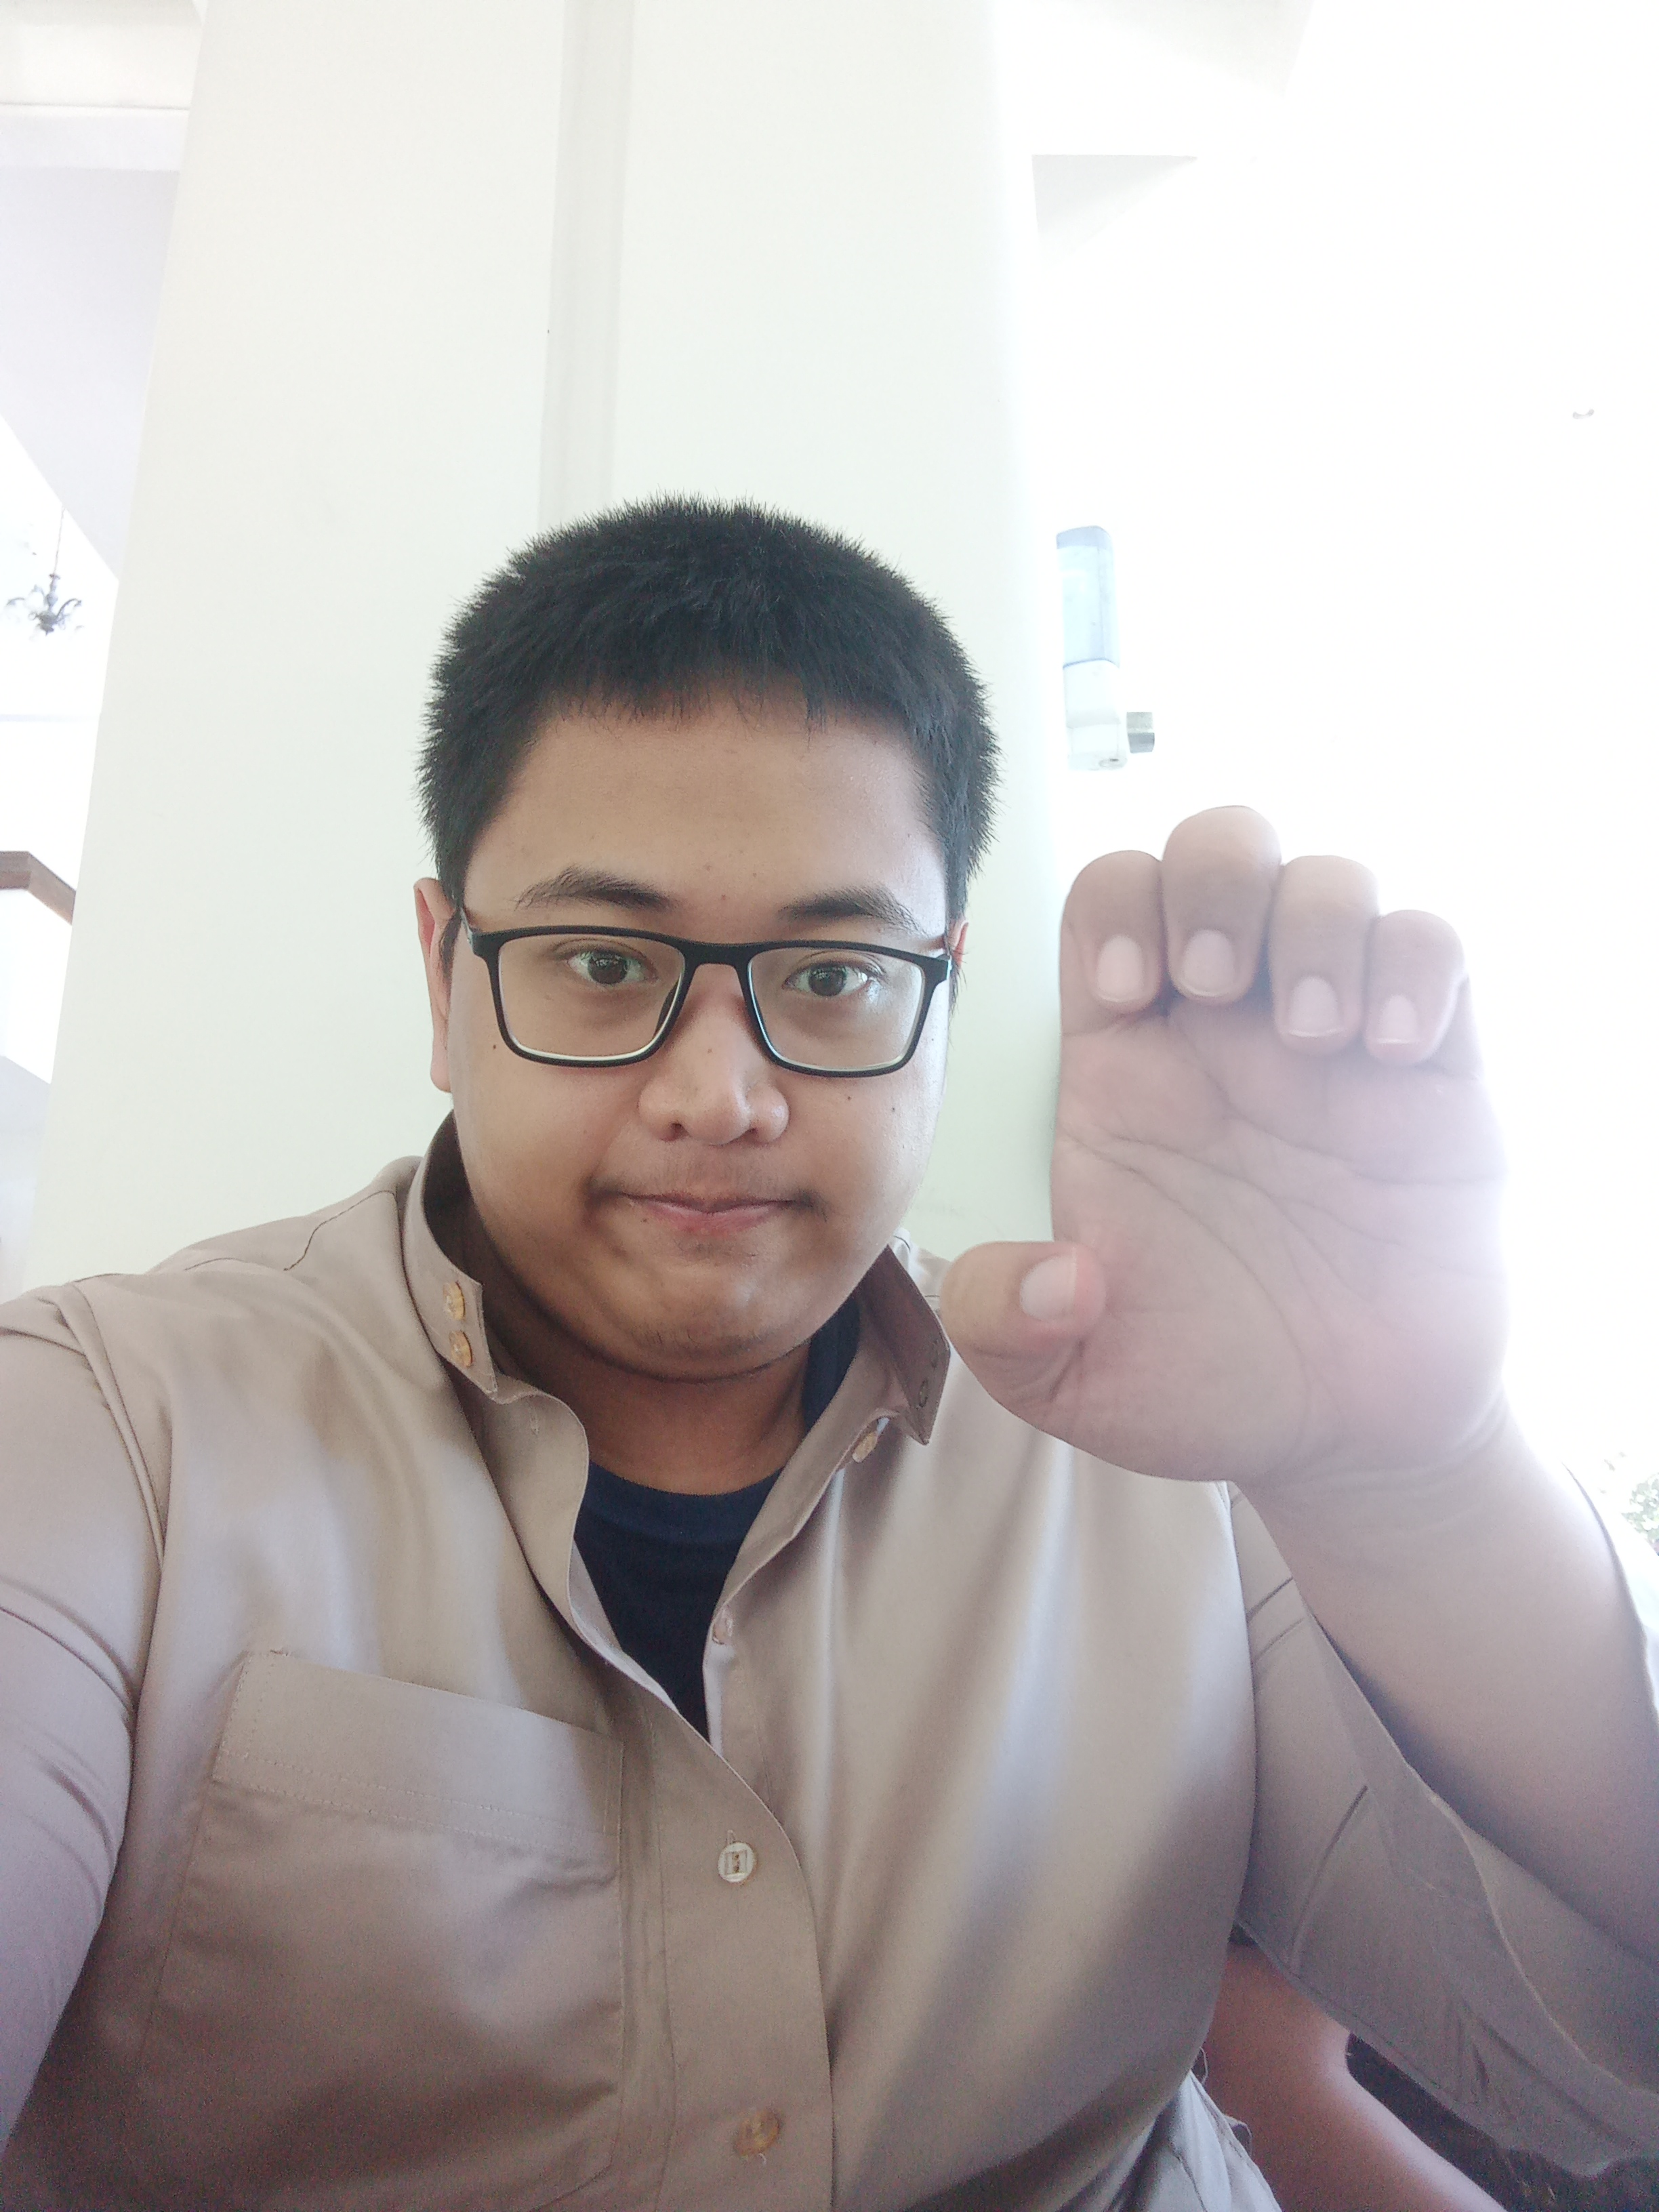E: (917, 784, 1568, 1552)
